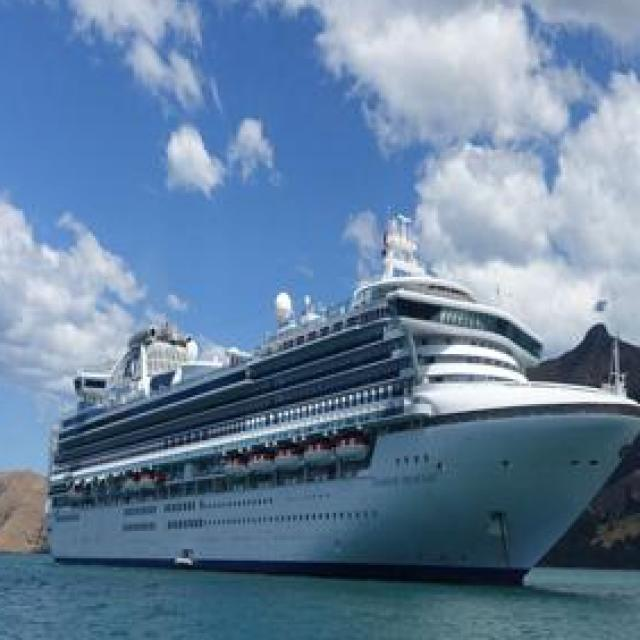passenger ship: (43, 243, 640, 592)
